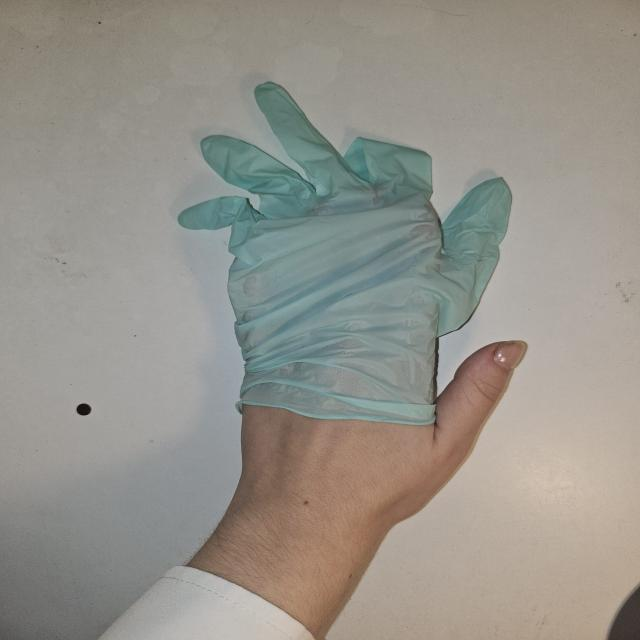glove_partial: (177, 81, 530, 518)
